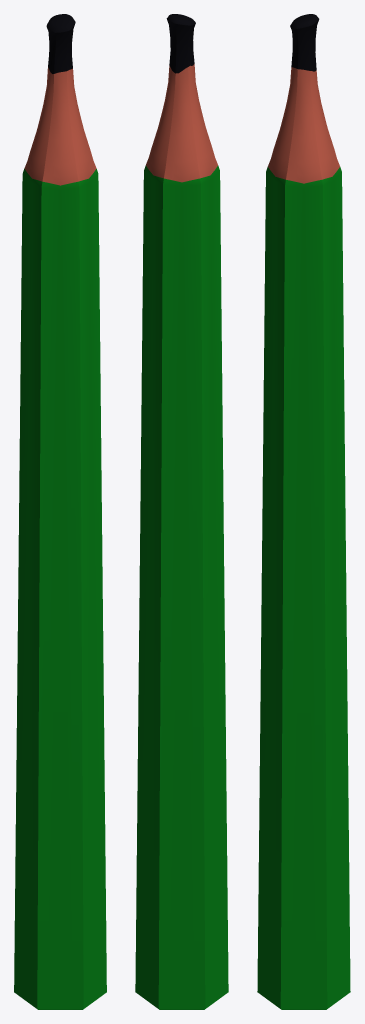
File: Pencil_Tall.FBX
The picture shows the model from 3 angles, left to right: view 1: azimuth 30°, elevation 25°; view 2: azimuth 210°, elevation 25°; view 3: azimuth 330°, elevation 25°; orthographic projection.
Visible parts, largest first — view 1: Cylinder005; view 2: Cylinder005; view 3: Cylinder005.
Boxes of the visible parts, <box> form: Cylinder005: <box>14,14,106,1009</box>; Cylinder005: <box>135,14,228,1009</box>; Cylinder005: <box>257,14,350,1009</box>.
Bounding box in the file's own units: 31.14 × 417 × 35.95.
